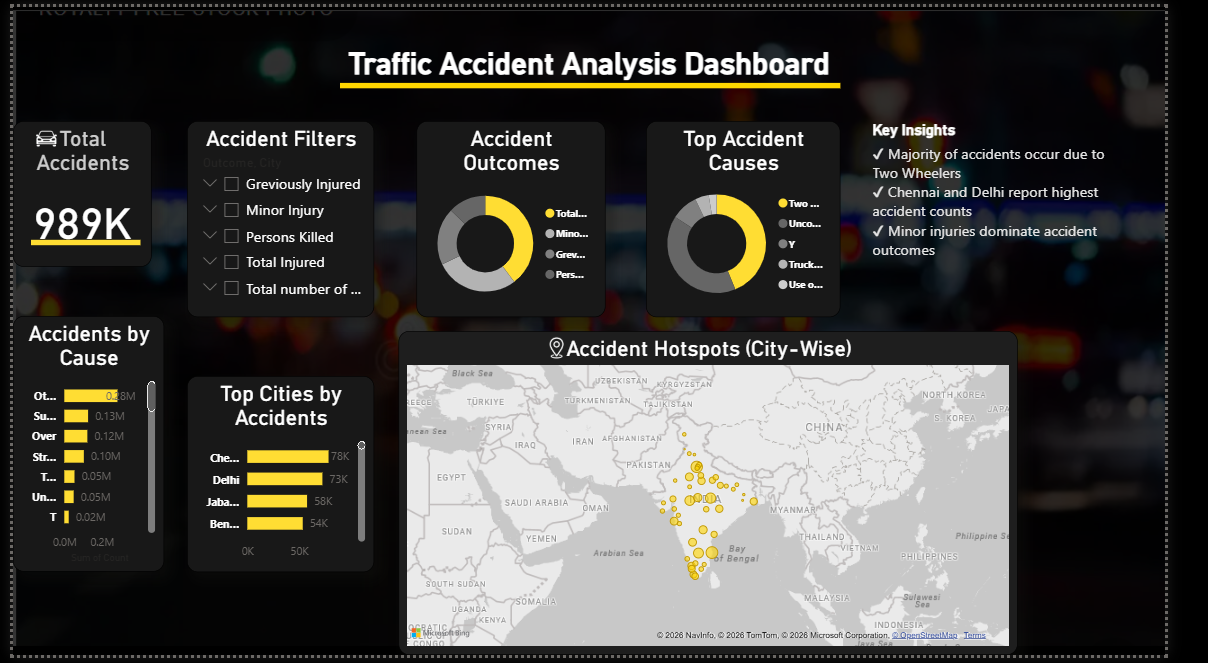

Layout of this report page (visuals, bound fields, positions):
{"tool":"powerbi","page":{"name":"Page 1","canvas":[1280,720],"ordinal":0},"visuals":[{"type":"card","title":"Total Accidents","fields":{"Values":["Sum(df.Count)"]},"box":[0,126,154,162],"z":0},{"type":"slicer","title":"Accident Filters","fields":{"Values":["df.Outcome","df.City"]},"box":[194,126,208,218],"z":1000},{"type":"clusteredBarChart","title":"Top Cities by Accidents","fields":{"Category":["df.City"],"Y":["Sum(df.Count)"]},"box":[194,410,208,218],"z":2000},{"type":"donutChart","title":"Accident Outcomes","fields":{"Category":["df.Outcome"],"Y":["Sum(df.Count)"]},"box":[448,126,210,218],"z":3000},{"type":"clusteredBarChart","title":"Accidents by Cause","fields":{"Category":["df.Cause Subcategory"],"Y":["Sum(df.Count)"]},"box":[0,344,168,284],"z":4000},{"type":"map","title":"Accident Hotspots (City-Wise)","fields":{"Category":["df.City"],"Size":["Sum(df.Count)"]},"box":[428,360,688,360],"z":5000},{"type":"shape","box":[364,44,556,88],"z":6000},{"type":"donutChart","title":"Top Accident Causes","fields":{"Category":["df.Cause Subcategory"],"Y":["Sum(df.Count)"]},"box":[704,126,216,218],"z":7000},{"type":"image","box":[0,118.5,73.8,56.9],"z":8000},{"type":"image","box":[544.6,337.7,118.5,84.6],"z":9000},{"type":"textbox","title":"Traffic Accident Analysis Dashboard","box":[0,43.3,1280,66.7],"z":10000},{"type":"shape","box":[20,221.7,121.7,80],"z":11000},{"type":"textbox","title":"Key Insights","box":[967.5,127.5,297.5,210],"z":12000}]}

Visuals, with their boxes in screenshot pixels (x1, y1, x2, y2), scaled from the page's 1280x720 canvas onto the 1208x663 screenshot:
"Total Accidents" card: (0,116,145,265)
"Accident Filters" slicer: (183,116,379,317)
"Top Cities by Accidents" clusteredBarChart: (183,378,379,578)
"Accident Outcomes" donutChart: (423,116,621,317)
"Accidents by Cause" clusteredBarChart: (0,317,159,578)
"Accident Hotspots (City-Wise)" map: (404,332,1053,662)
shape: (344,41,868,122)
"Top Accident Causes" donutChart: (664,116,868,317)
image: (0,109,70,162)
image: (514,311,626,389)
"Traffic Accident Analysis Dashboard" textbox: (0,40,1207,101)
shape: (19,204,134,278)
"Key Insights" textbox: (913,117,1194,311)
